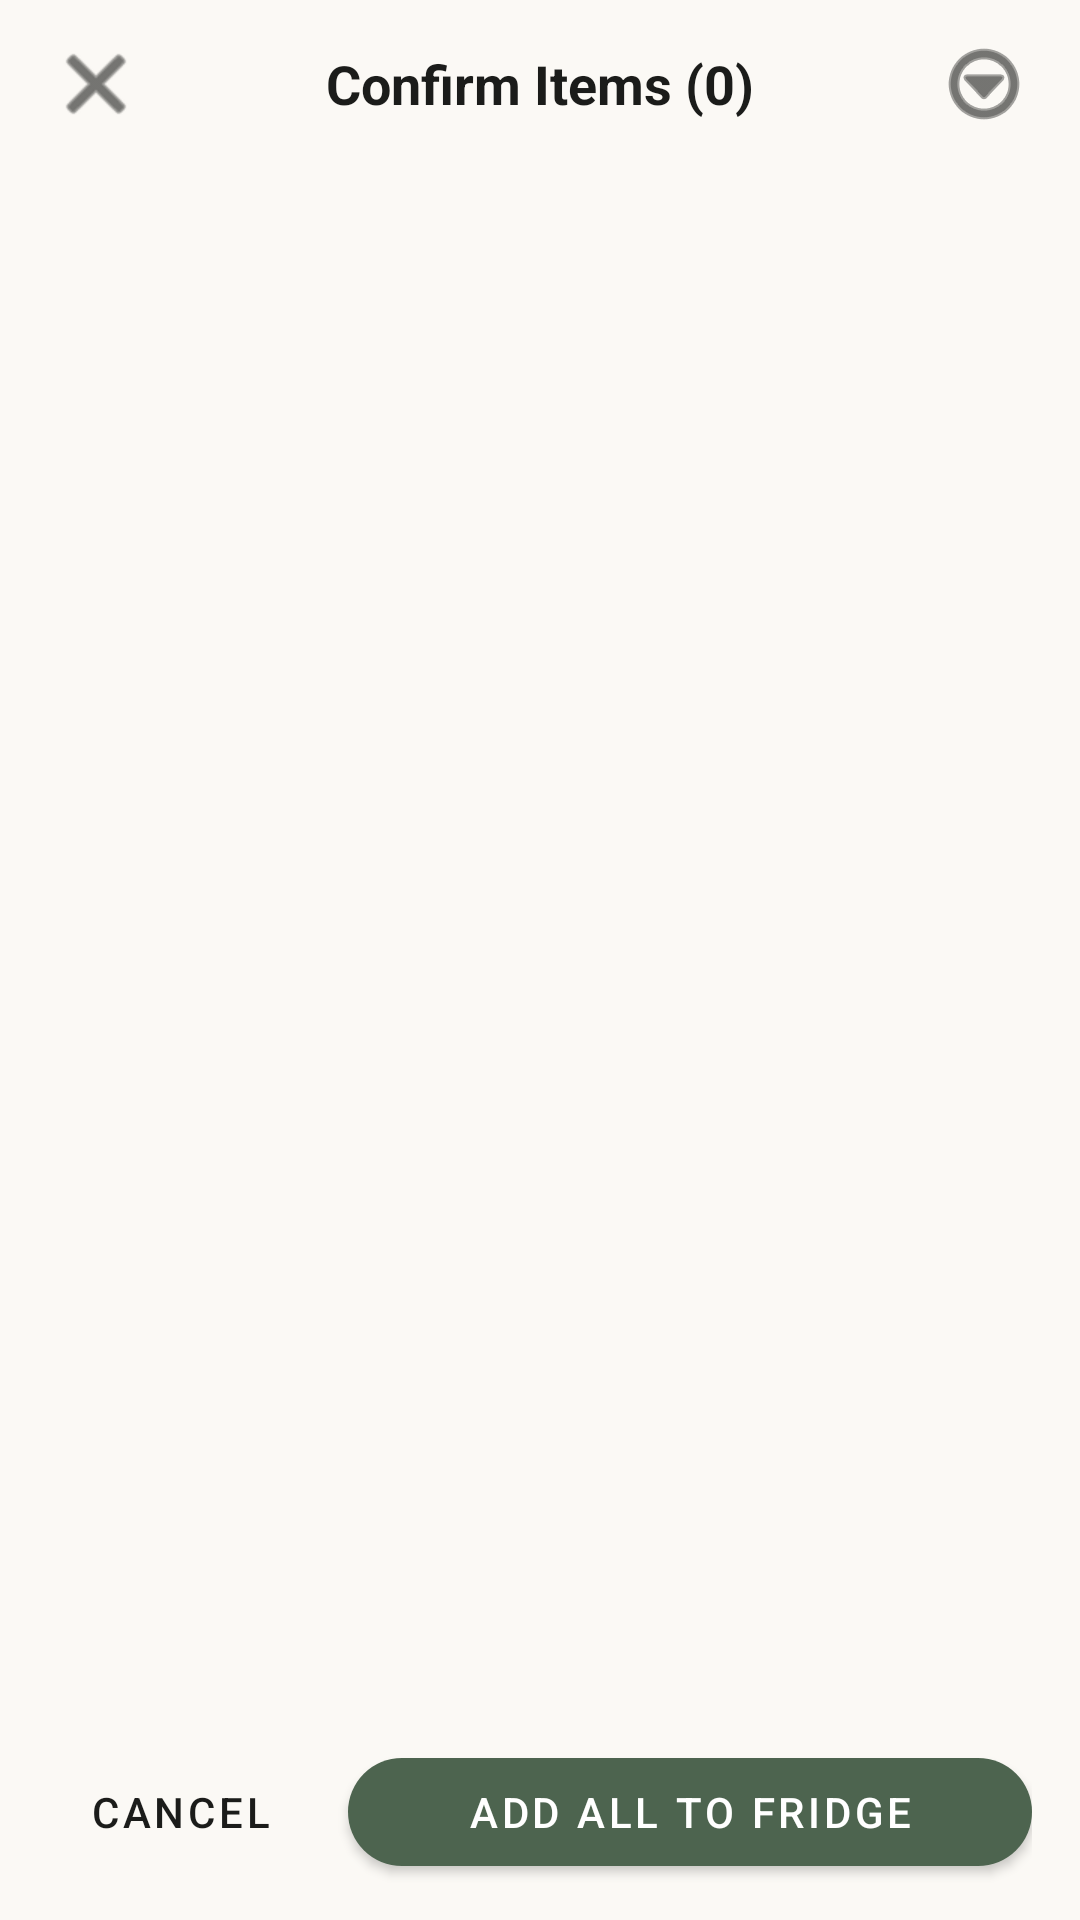

Where icons sit on this 1080 x 1920 app screen, as box=[x1, y1, x2, y2]:
close clear cancel: box=[66, 54, 126, 114]
more: box=[948, 48, 1020, 120]
